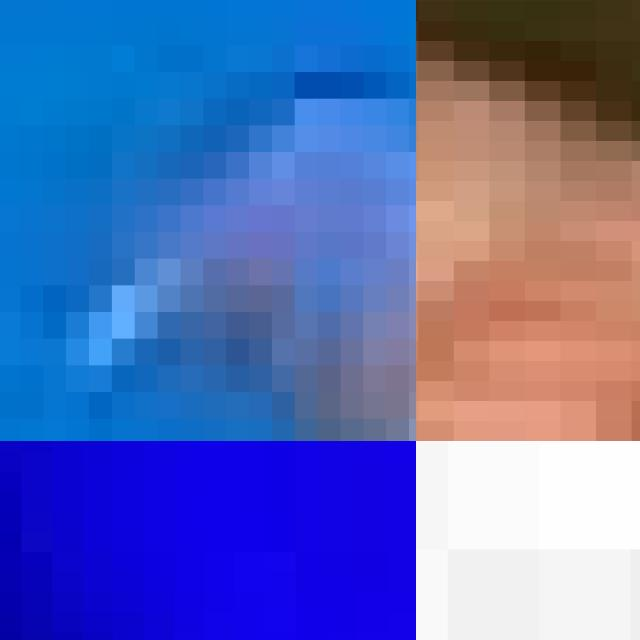fish: (0, 18, 416, 441)
